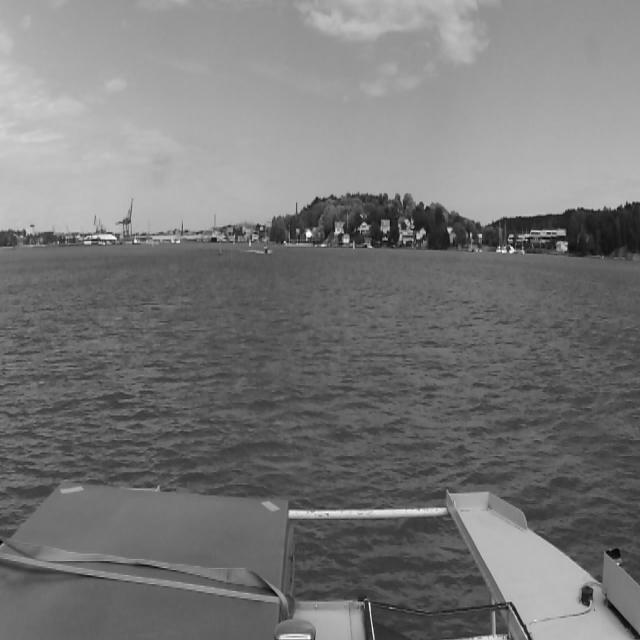buoy: (218, 242, 222, 255), (230, 250, 232, 266)
ship: (502, 220, 508, 254), (496, 222, 502, 254), (258, 245, 276, 252), (132, 239, 142, 245), (508, 244, 514, 254)
